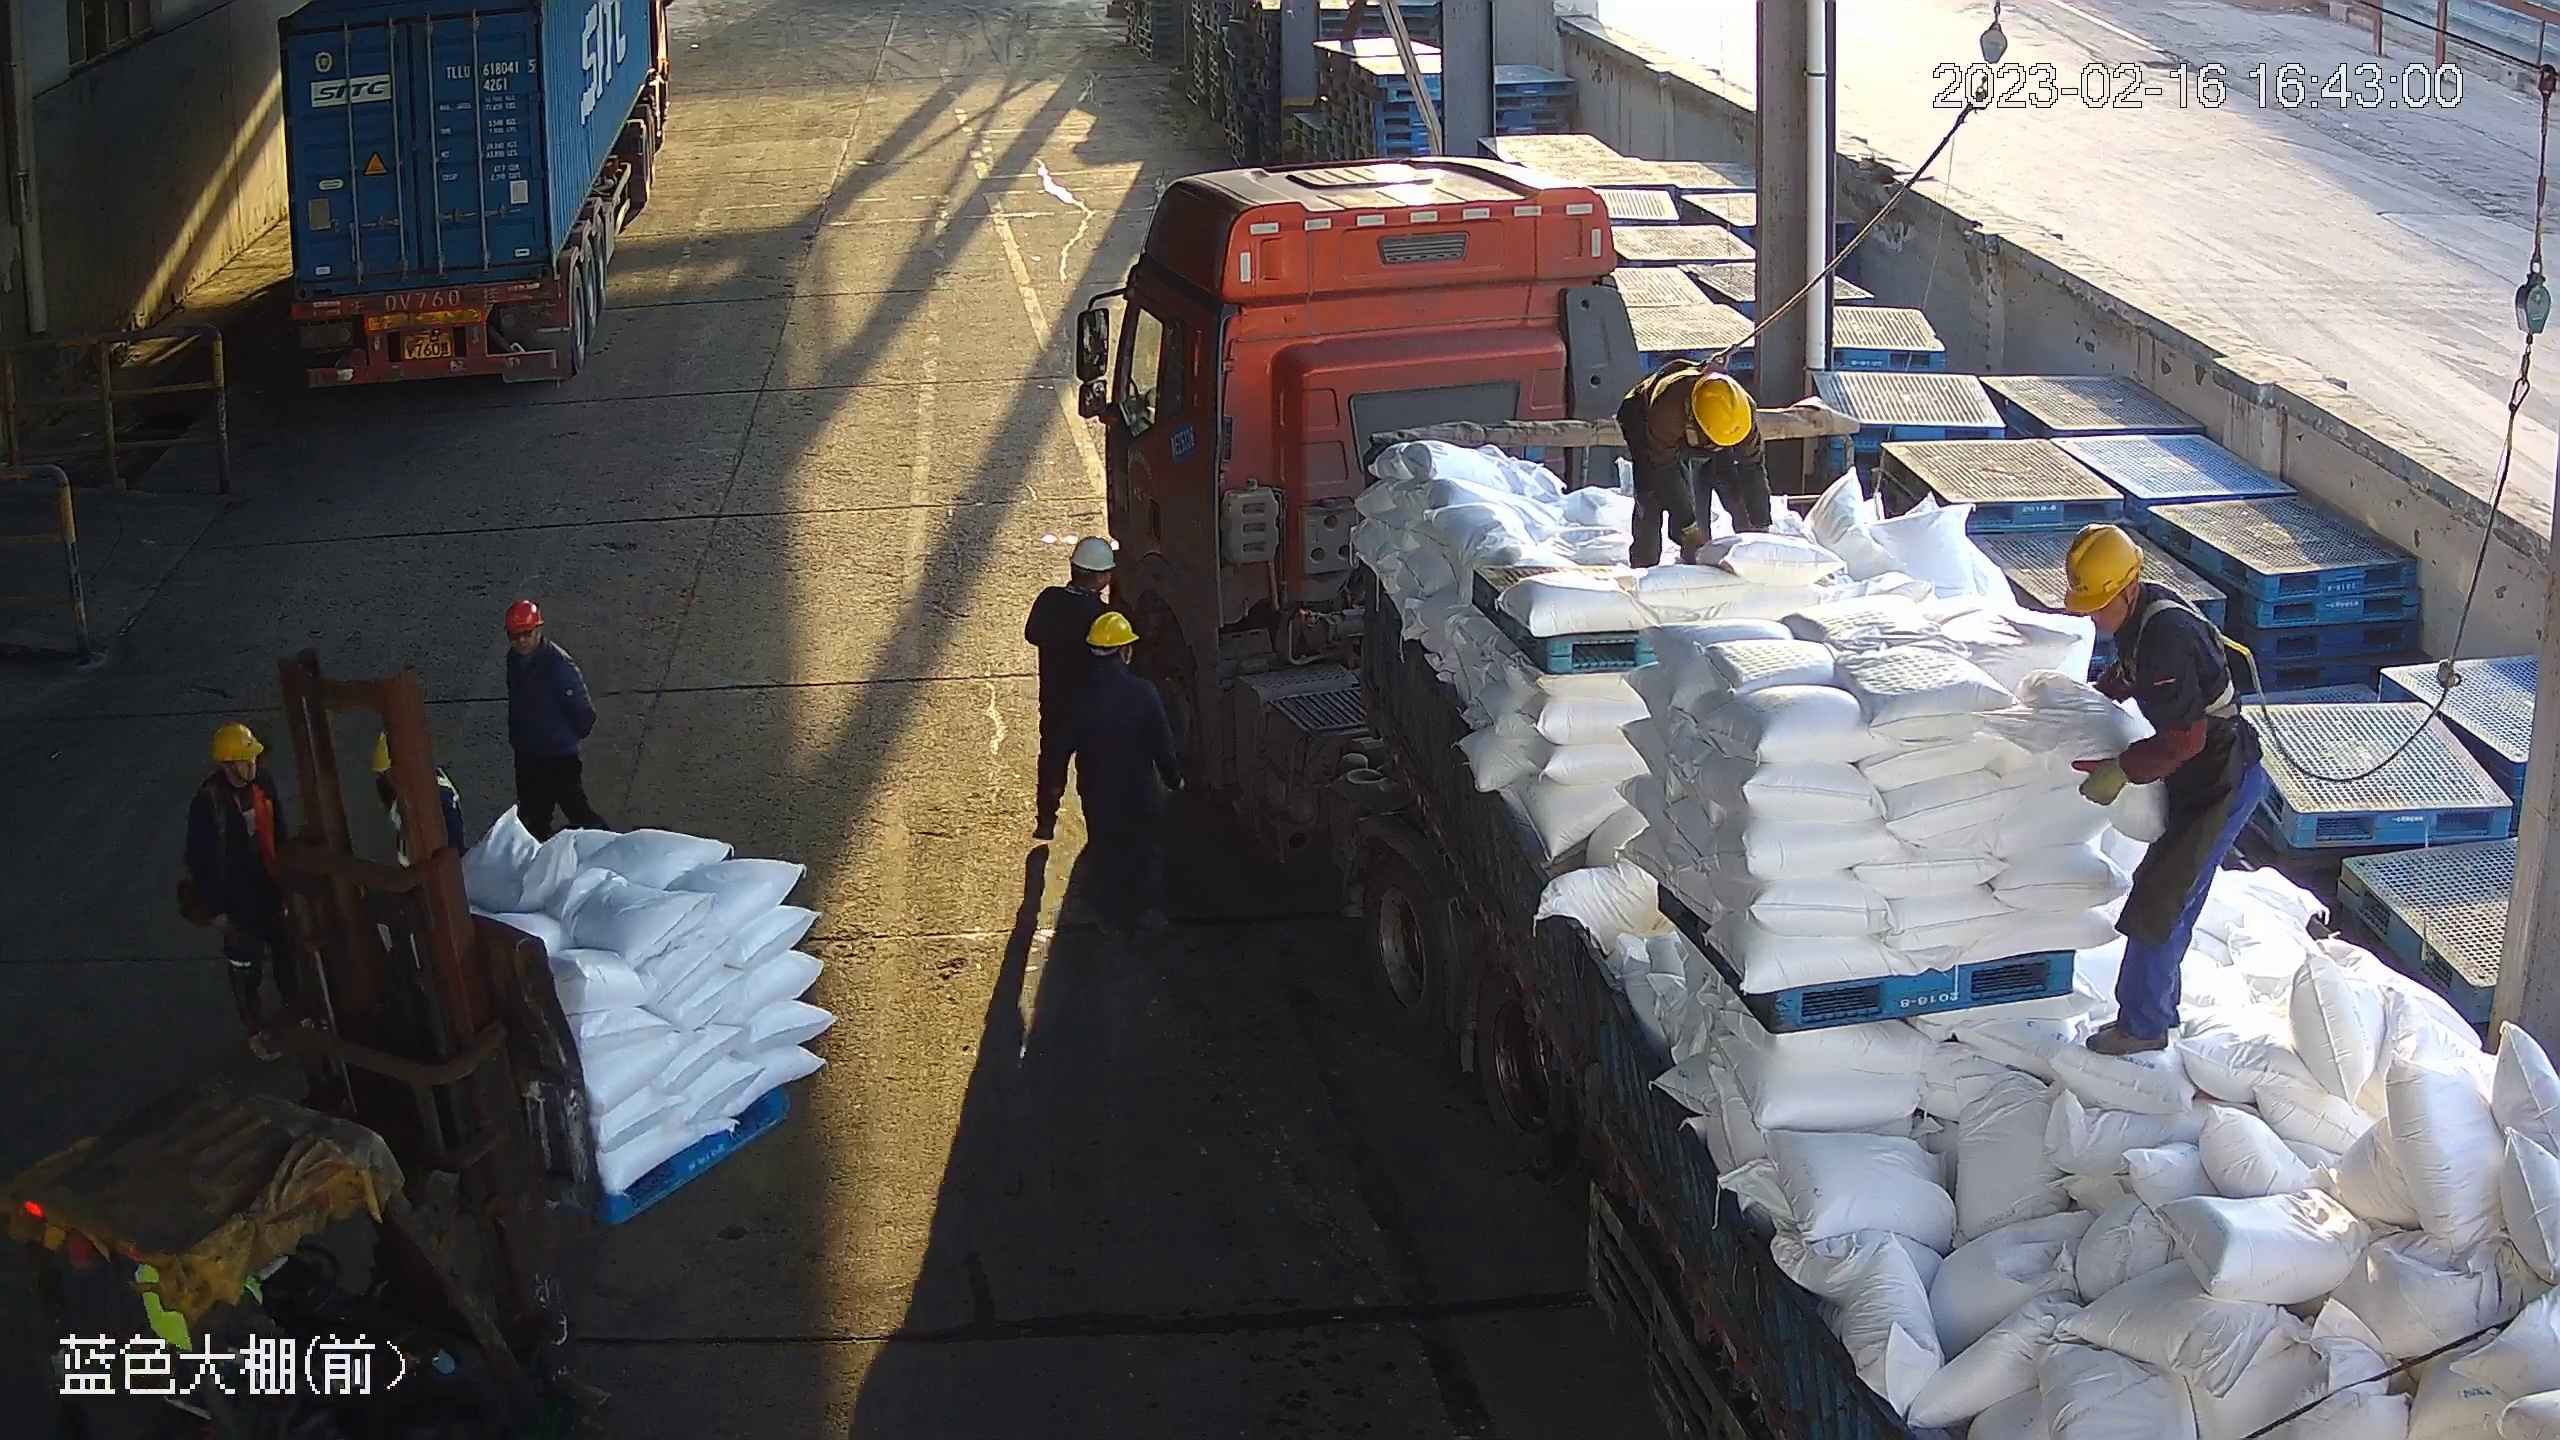belt: (2135, 576, 2256, 730)
head: (2064, 527, 2208, 679), (1623, 366, 1759, 461), (1078, 618, 1171, 735), (183, 718, 274, 825), (1032, 544, 1118, 654), (501, 601, 583, 694)
helmet: (2066, 522, 2144, 610), (1690, 376, 1756, 447), (206, 722, 269, 764), (1067, 537, 1117, 569), (1089, 615, 1136, 648), (503, 600, 540, 635)
people: (2061, 525, 2271, 1054), (178, 720, 322, 1071), (1071, 610, 1186, 927), (1615, 364, 1778, 571), (1029, 540, 1117, 852), (503, 601, 612, 842)
truck: (1076, 144, 2560, 1440), (278, 1, 684, 389)
